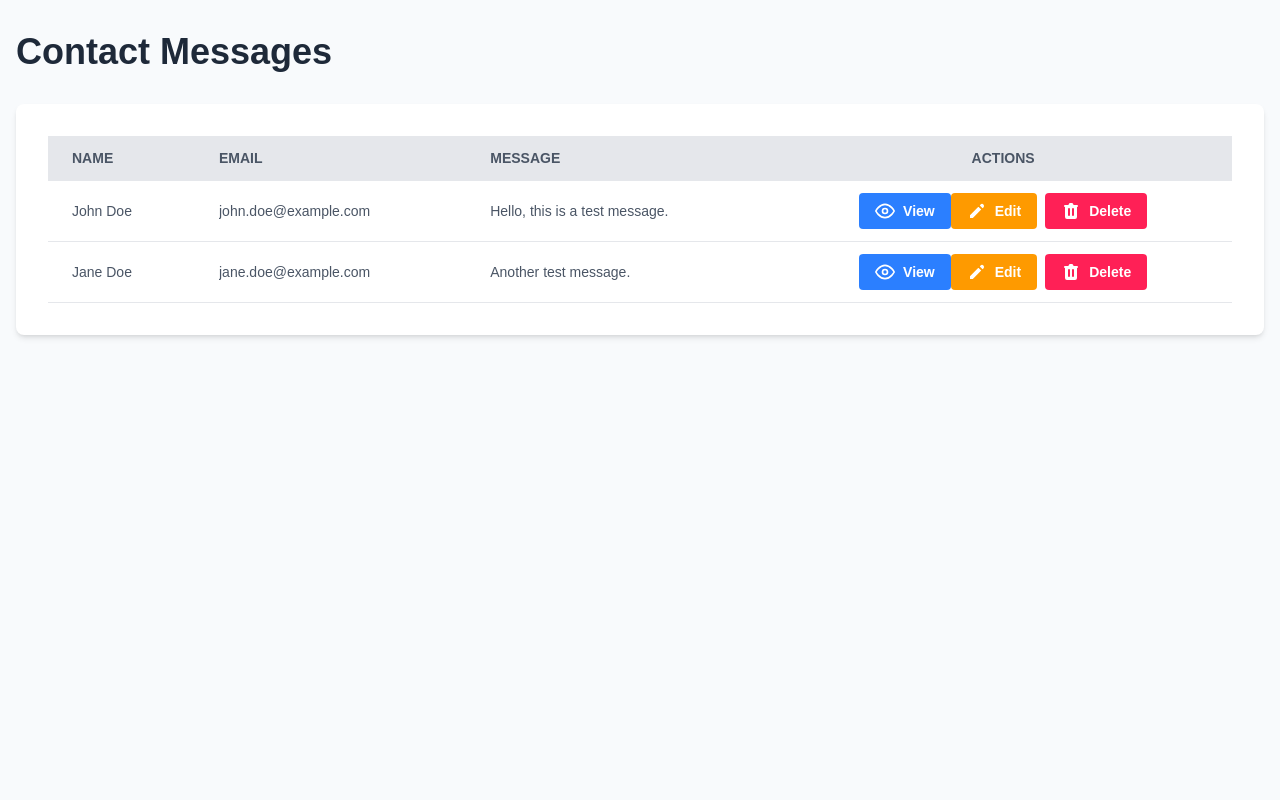
Test case: ContactPage › opens the modal to view a message
Click the button "View" in the row of "John Doe". click: {"x": 905, "y": 211}
box: [859,193,951,229]
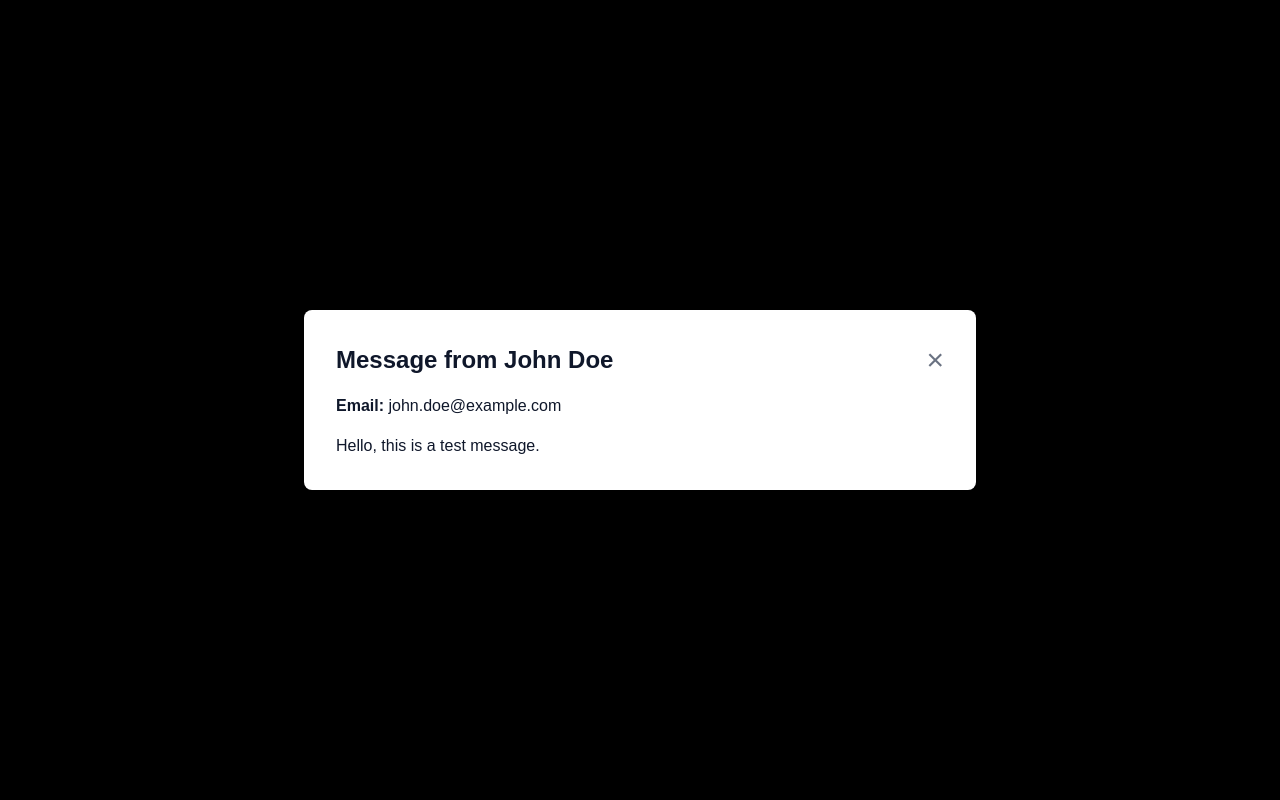
Expected: the heading "Message from John Doe" is shown, [336,344,613,376]
Expected: the text "Hello, this is a test message." is shown, [336,437,540,454]
